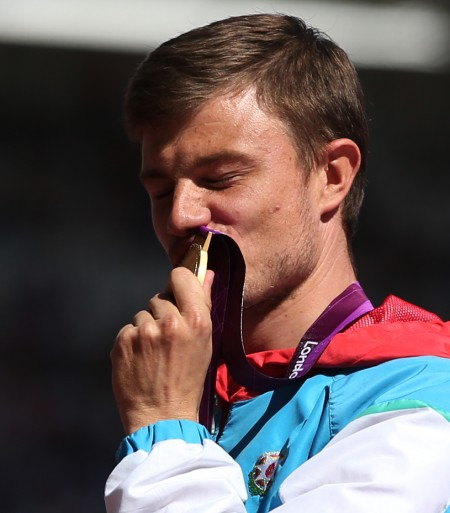face: (146, 92, 304, 305)
